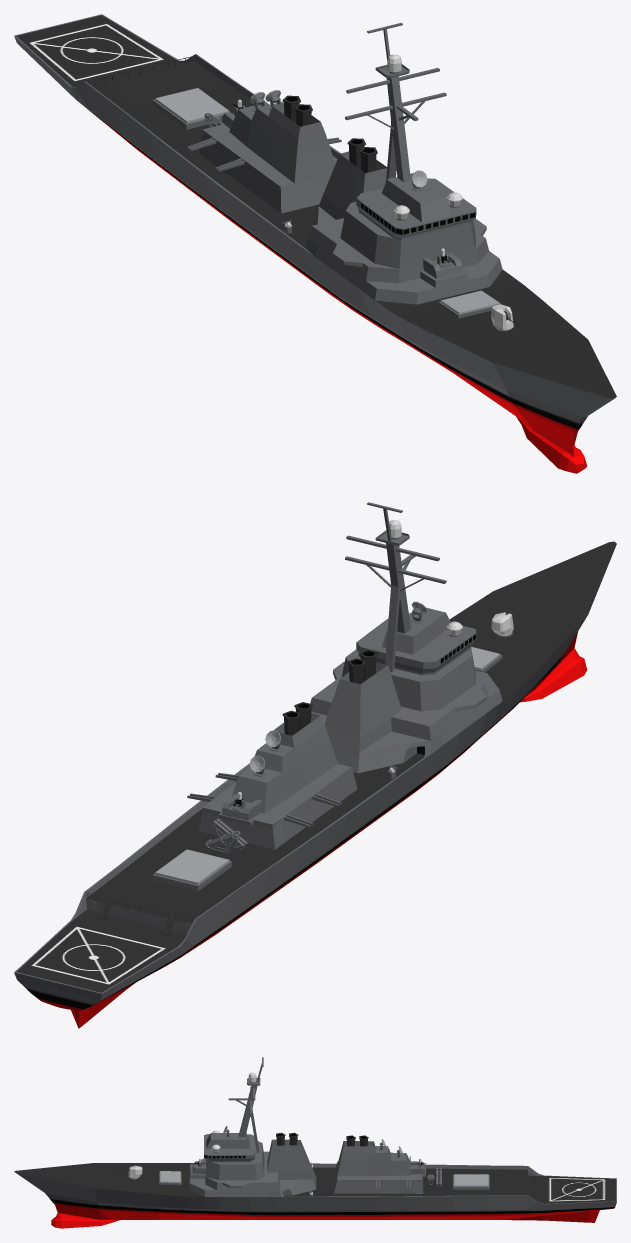
3 views of the same model, one above another, from view 1: azimuth 30°, elevation 25°; view 2: azimuth 150°, elevation 25°; view 3: azimuth 270°, elevation 25° (orthographic). The views are drawn at different scales.
Parts seen in each view (by area): view 1: Cube.018; view 2: Cube.018; view 3: Cube.018.
Boxes of the visible parts, x1=… form: Cube.018: x1=14, y1=14, x2=616, y2=473; Cube.018: x1=14, y1=502, x2=616, y2=1028; Cube.018: x1=14, y1=1057, x2=616, y2=1228.
Bounding box in the file's own units: 2272 × 4685 × 15364.
